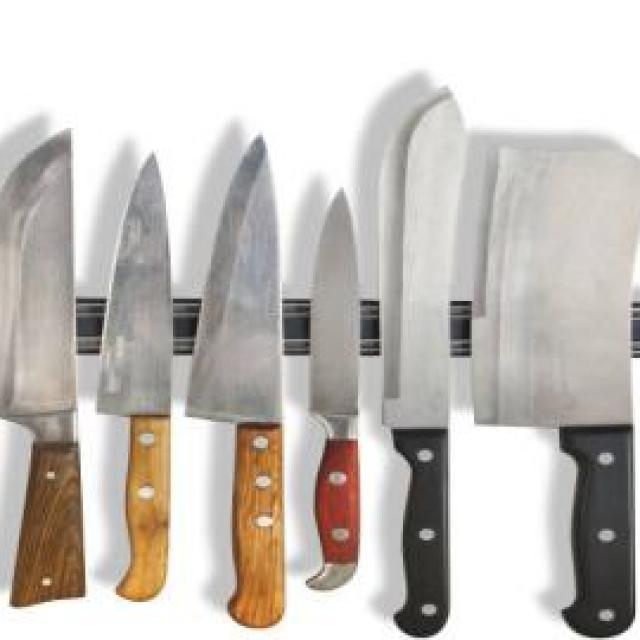knife: (474, 145, 640, 640), (0, 121, 92, 617), (382, 73, 449, 638), (216, 136, 287, 640), (114, 150, 181, 612), (310, 194, 370, 595)
